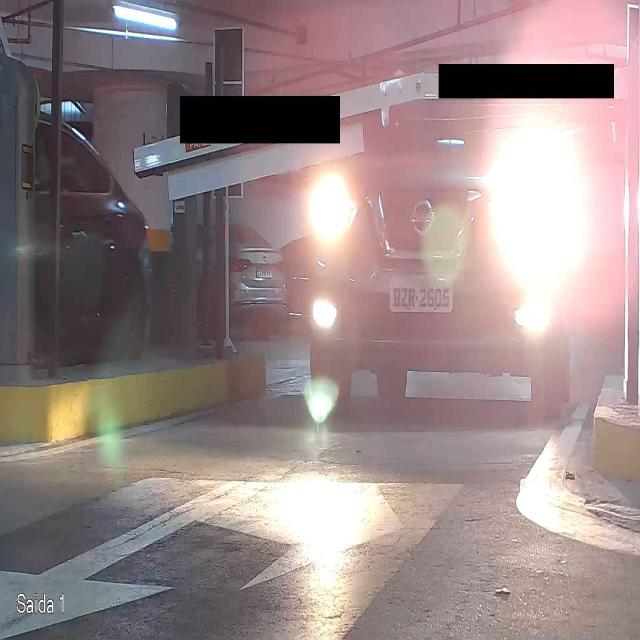old_plate: (387, 272, 457, 314)
